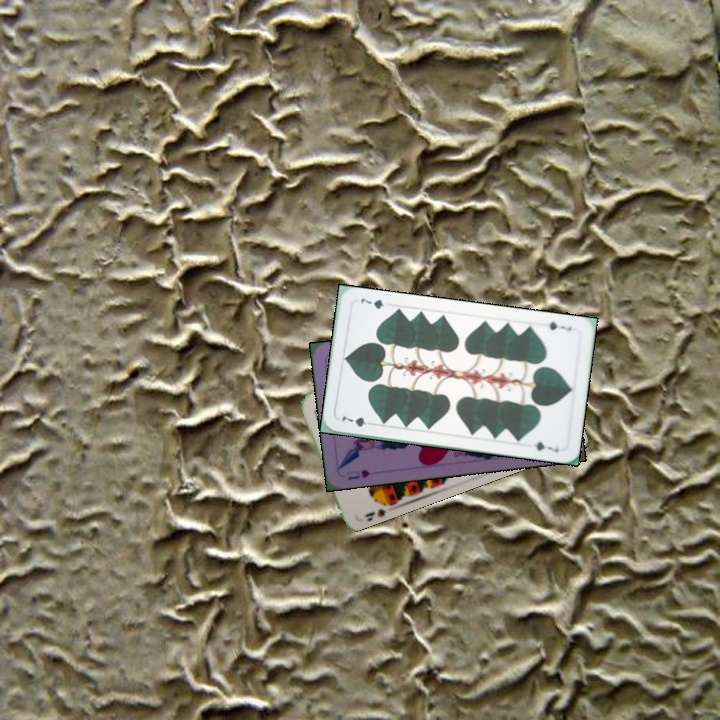G7: (338, 412, 377, 430), (539, 318, 574, 333)
HU: (343, 465, 372, 482)
S9: (359, 495, 394, 523)
